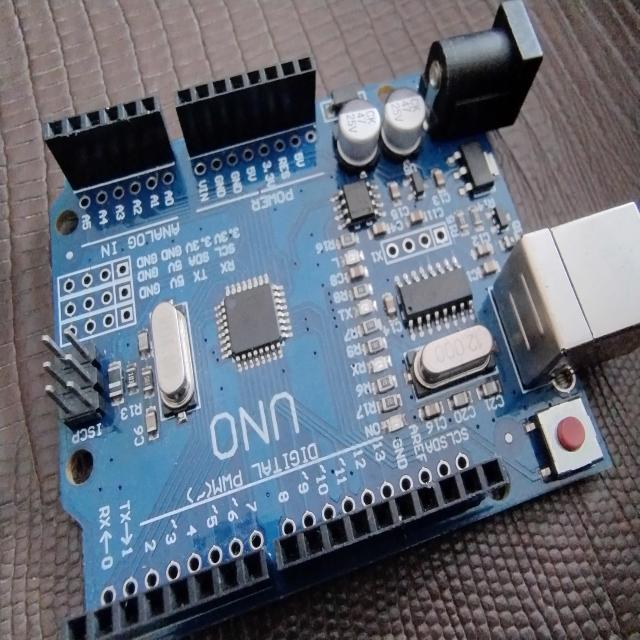arduino: (5, 2, 640, 640)
